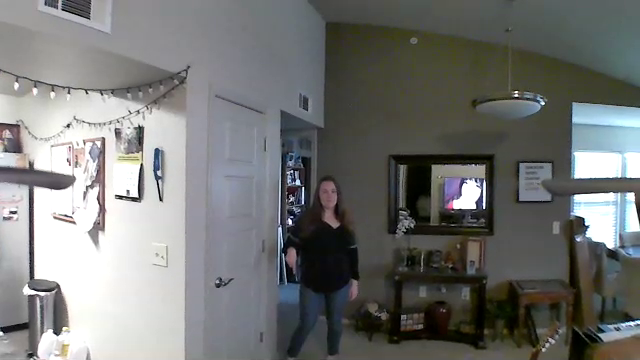down: (280, 244, 301, 278)
